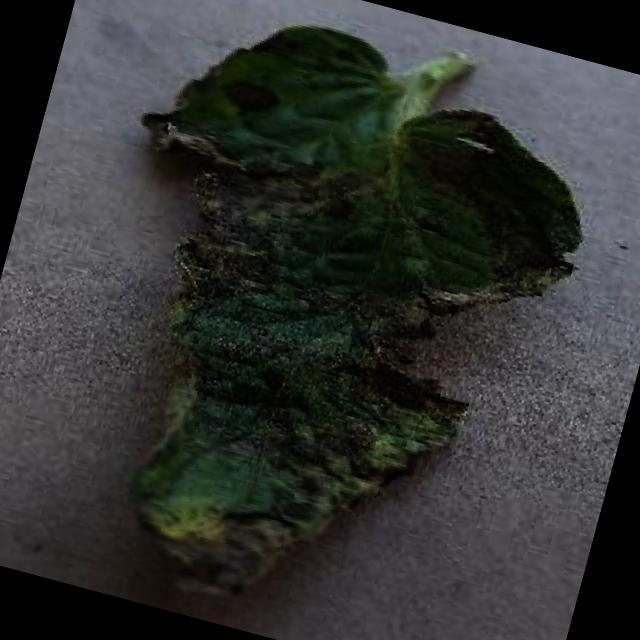Tomato Early blight leaf: (30, 0, 617, 640)
